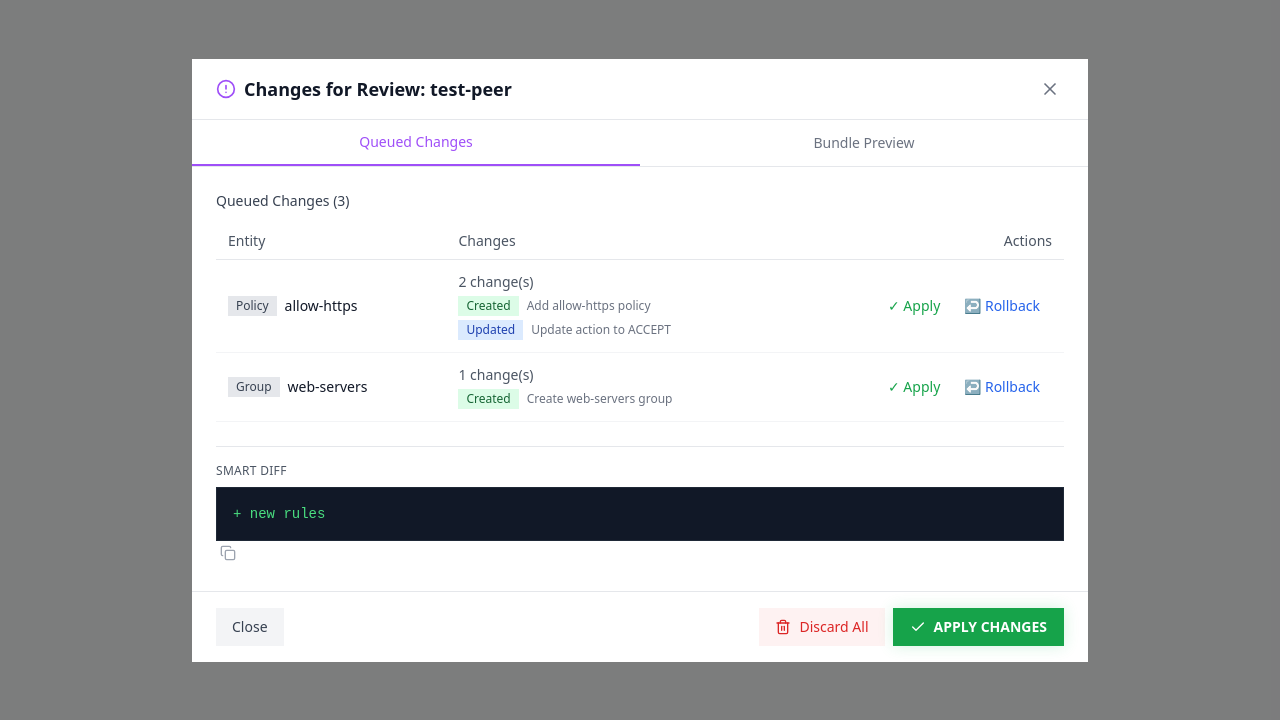
PendingChangesModal › discard all › shows confirm modal when Discard All is clicked
Click the button "Discard All": (822, 626) [760,608,884,646]
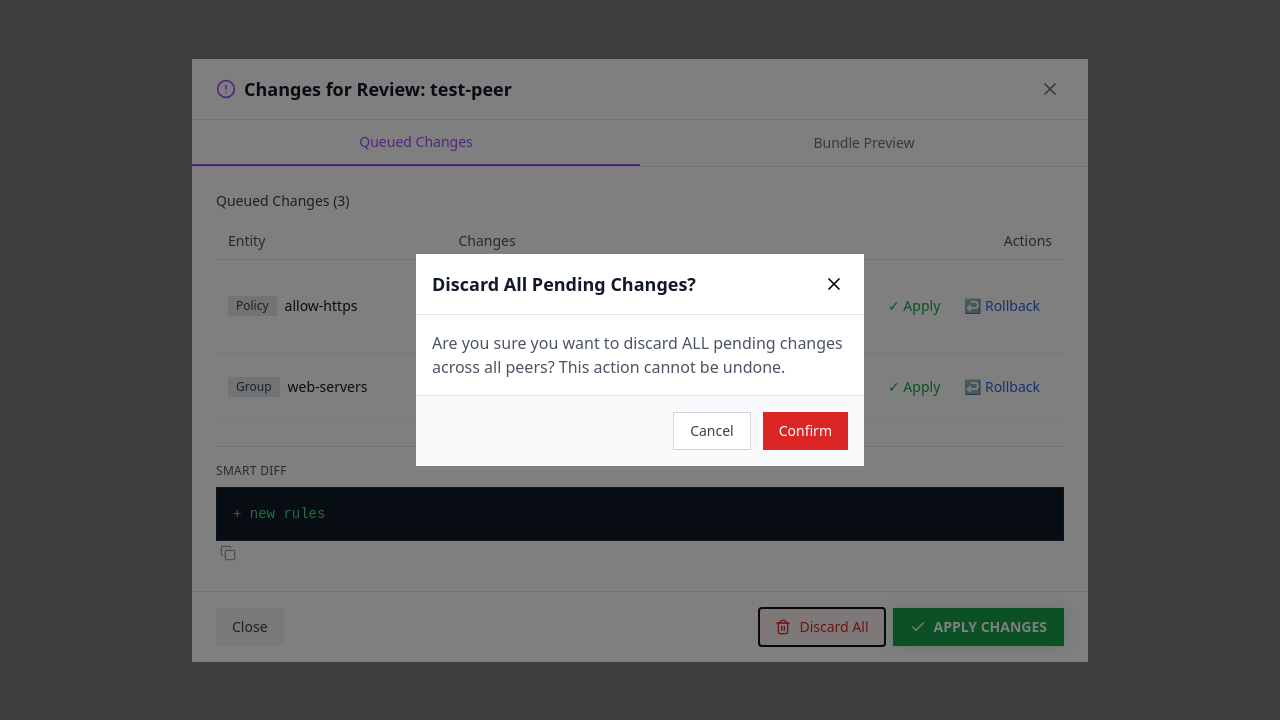
Expected: the heading "Discard All Pending Changes?" is shown, [432,270,696,298]
